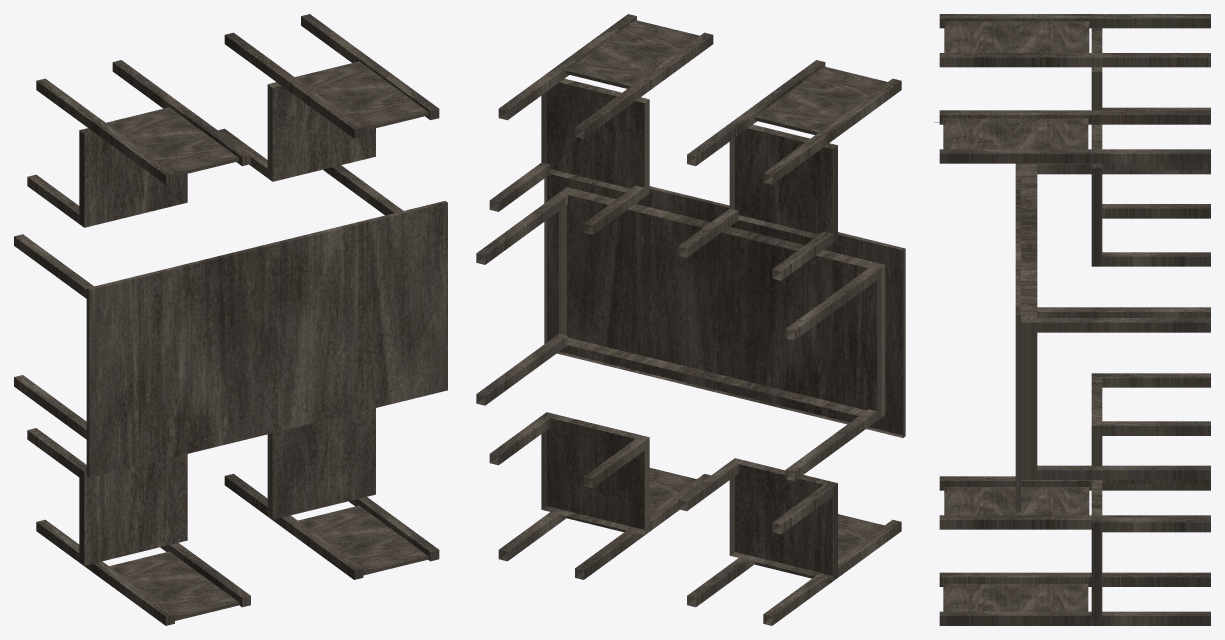
The model's file is tablenchairs268_wtf.obj.
3 views of the same model, side by side, from view 1: azimuth 30°, elevation 25°; view 2: azimuth 150°, elevation 25°; view 3: azimuth 270°, elevation 25° (orthographic). The views are drawn at different scales.
Visible parts, largest first — view 1: group6, group7, group3, group2, group4, group8; view 2: group6, group7, group3, group2, group4, group8; view 3: group7, group2, group3, group8, group4.
Boxes of the visible parts, x1=… form: group6: x1=84, y1=86, x2=447, y2=565; group7: x1=14, y1=14, x2=447, y2=625; group3: x1=295, y1=61, x2=428, y2=130; group2: x1=106, y1=107, x2=238, y2=176; group4: x1=298, y1=505, x2=428, y2=575; group8: x1=109, y1=551, x2=238, y2=620; group6: x1=546, y1=82, x2=903, y2=575; group7: x1=476, y1=14, x2=905, y2=625; group3: x1=566, y1=20, x2=699, y2=88; group2: x1=755, y1=66, x2=887, y2=134; group4: x1=566, y1=468, x2=696, y2=532; group8: x1=755, y1=514, x2=884, y2=578; group7: x1=939, y1=14, x2=1210, y2=625; group2: x1=944, y1=21, x2=1089, y2=52; group3: x1=943, y1=118, x2=1088, y2=149; group8: x1=944, y1=487, x2=1089, y2=515; group4: x1=943, y1=584, x2=1088, y2=611.
Bounding box in the file's own units: 550 × 660 × 351.
